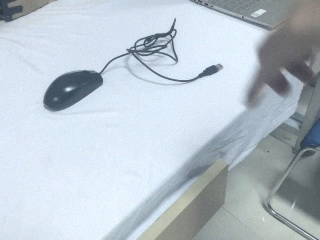box: (1, 1, 59, 22)
mouse: (42, 69, 104, 112)
